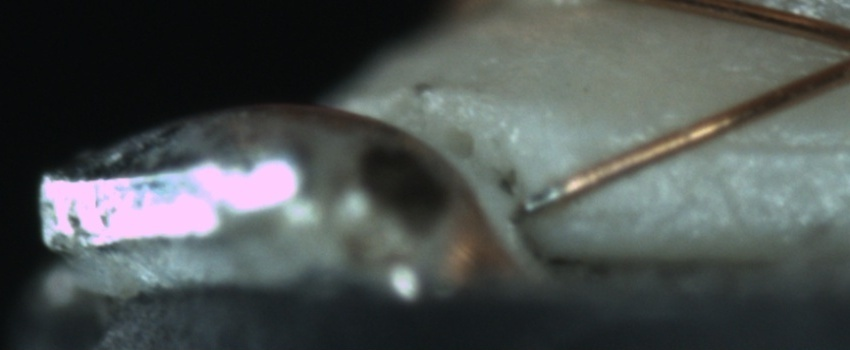DL: (620, 111, 849, 183)
TS: (522, 182, 564, 214)
